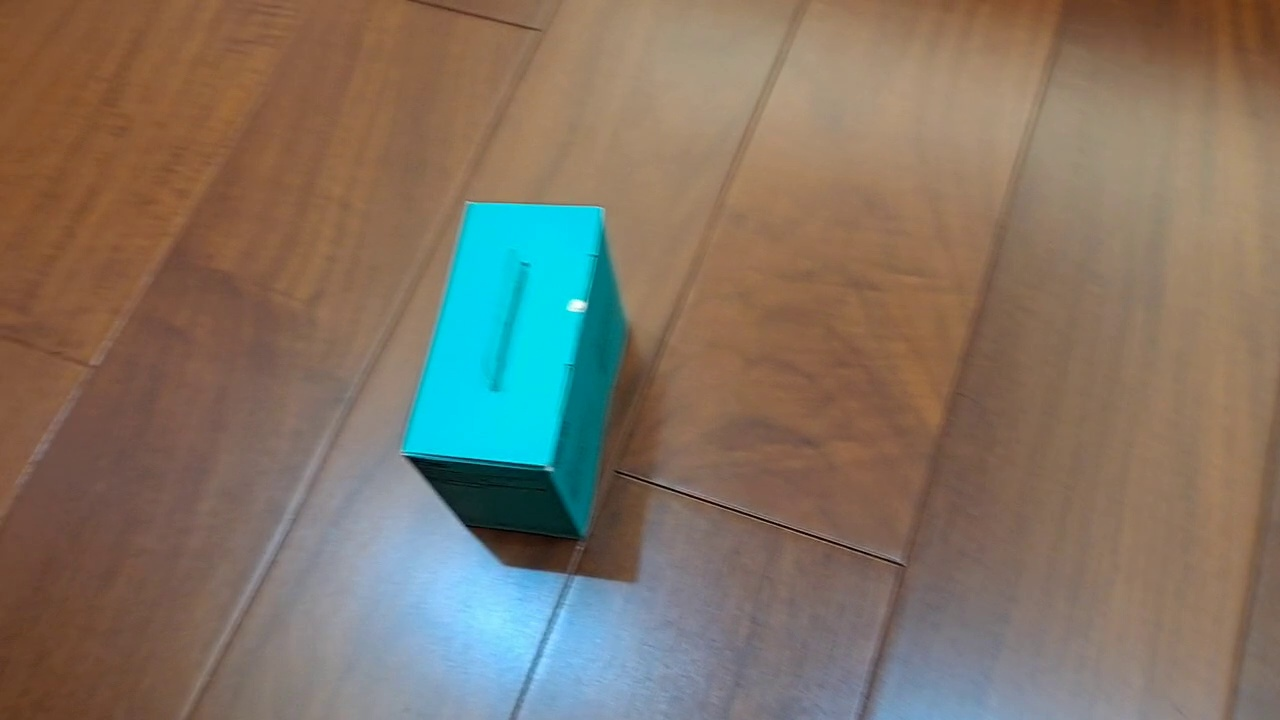webcam: (397, 198, 630, 542)
